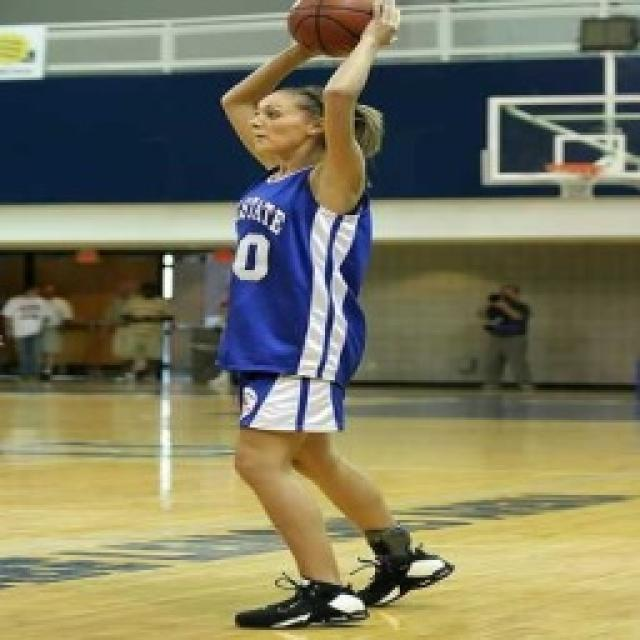rim: (282, 0, 393, 60)
